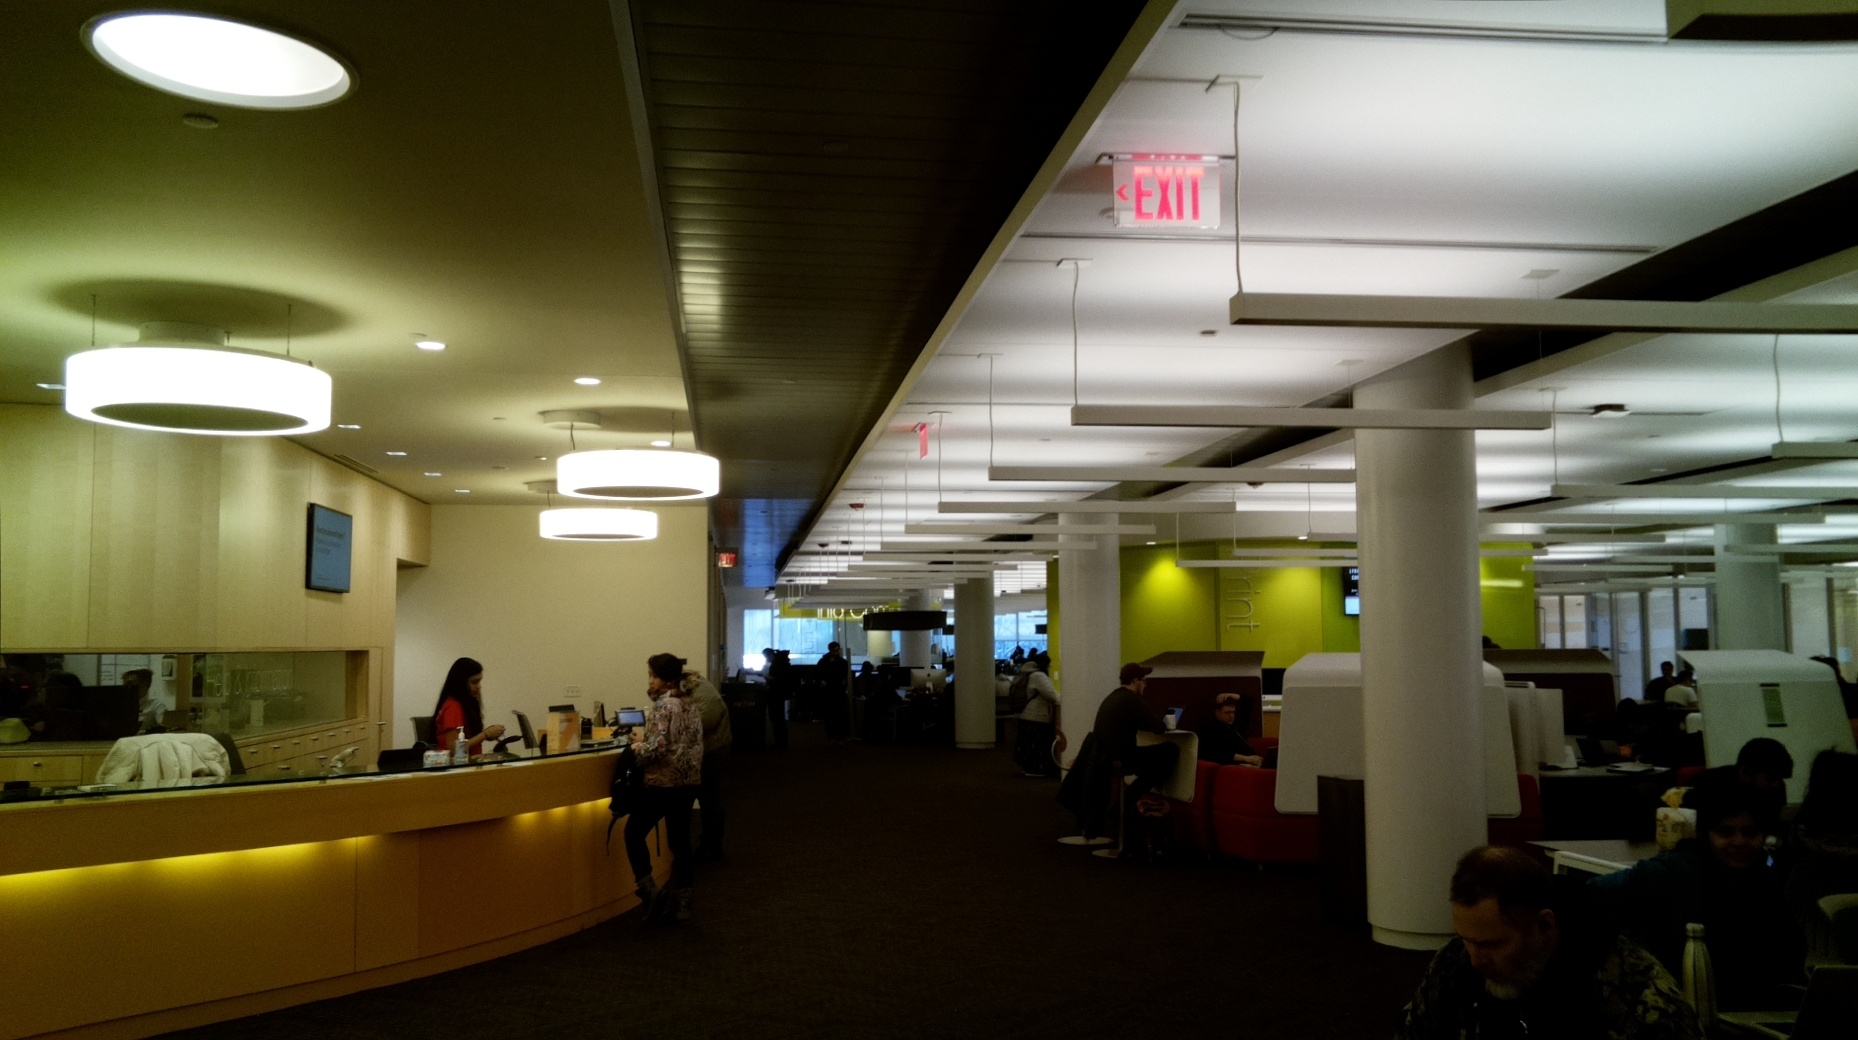exit sign: (1109, 160, 1225, 234), (713, 546, 740, 570), (918, 427, 930, 462)
